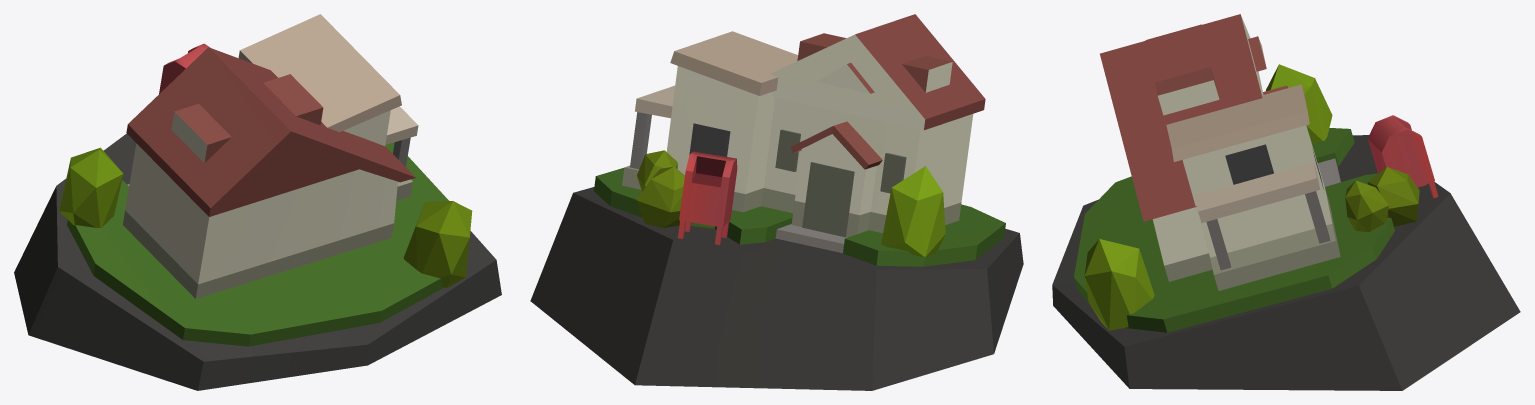
The model's file is city_lv02_B.fbx.
The picture shows the model from 3 angles, left to right: view 1: azimuth 30°, elevation 25°; view 2: azimuth 150°, elevation 25°; view 3: azimuth 270°, elevation 25°; orthographic projection.
Parts seen in each view (by area): view 1: city_lv02_B; view 2: city_lv02_B; view 3: city_lv02_B.
Part boxes in pixels (x1,y1,x2,y2): city_lv02_B: (14,14,501,390); city_lv02_B: (530,14,1023,390); city_lv02_B: (1052,14,1520,390).
Bounding box in the file's own units: 3393 × 2162 × 3484.
